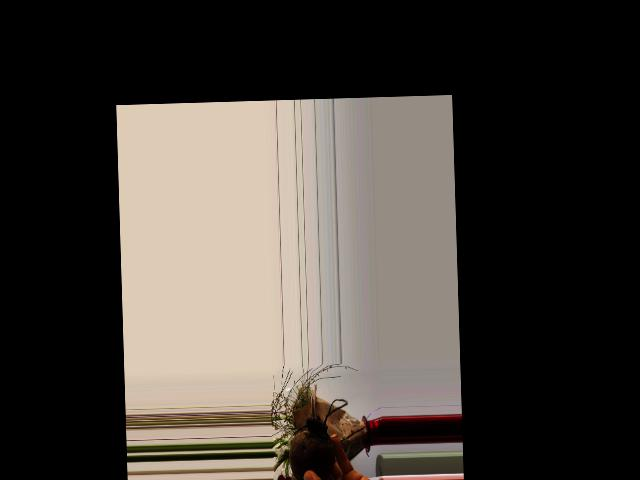beet: (280, 398, 350, 480)
